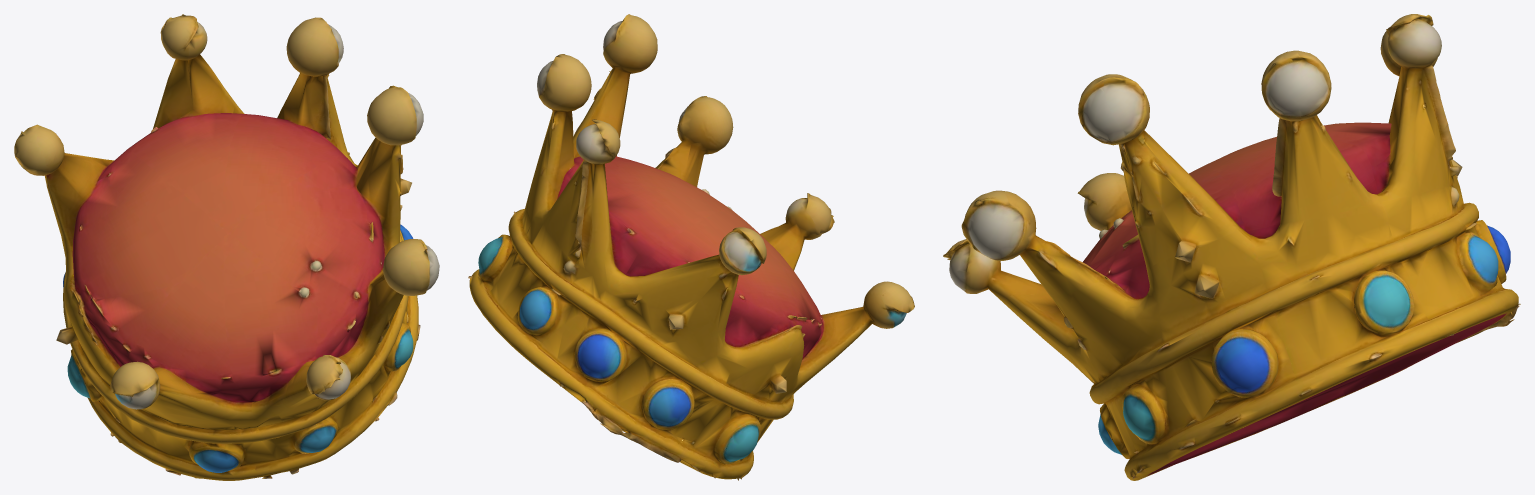
File: crown.glb
3 views of the same model, side by side, from view 1: azimuth 30°, elevation 25°; view 2: azimuth 150°, elevation 25°; view 3: azimuth 270°, elevation 25° (orthographic). The views are drawn at different scales.
Visible parts, largest first — view 1: tripo_node_2af80670-2db4-42d2-b576-6d4198787e7c; view 2: tripo_node_2af80670-2db4-42d2-b576-6d4198787e7c; view 3: tripo_node_2af80670-2db4-42d2-b576-6d4198787e7c.
Part boxes in pixels (x1,y1,x2,y2): tripo_node_2af80670-2db4-42d2-b576-6d4198787e7c: (14,14,439,480); tripo_node_2af80670-2db4-42d2-b576-6d4198787e7c: (468,14,914,480); tripo_node_2af80670-2db4-42d2-b576-6d4198787e7c: (943,14,1520,480).
Bounding box in the file's own units: 0.8831 × 0.9276 × 1.
1 material, 1 textured.
